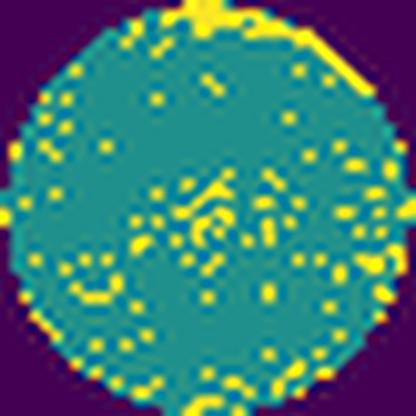Edge-Loc: (154, 0, 383, 99)
